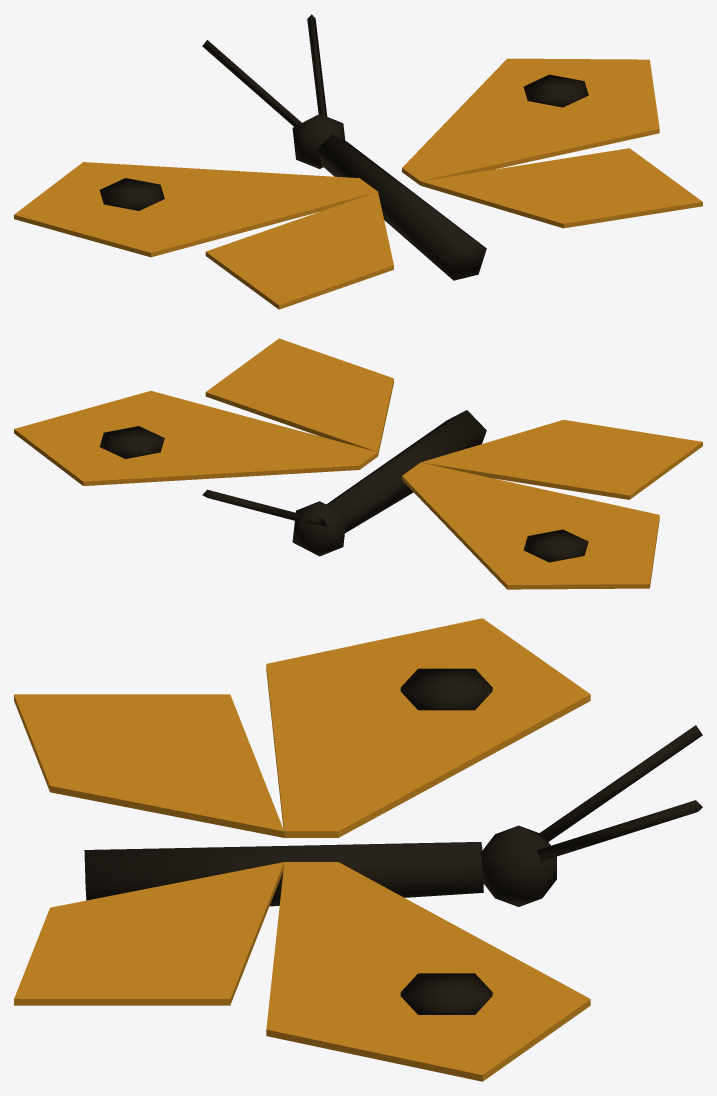
File: butterfly.glb
3 renders of one model, top to bottom at view 1: azimuth 30°, elevation 25°; view 2: azimuth 150°, elevation 25°; view 3: azimuth 270°, elevation 25°, orthographic. The views are drawn at different scales.
Visible parts, largest first — view 1: butterfly_v0; view 2: butterfly_v0; view 3: butterfly_v0.
Boxes of the visible parts, x1,y1,x2,y2 form: butterfly_v0: (14,14,702,309); butterfly_v0: (14,338,702,589); butterfly_v0: (14,618,702,1081).
Bounding box in the file's own units: 0.6 × 0.0897 × 0.3822.
